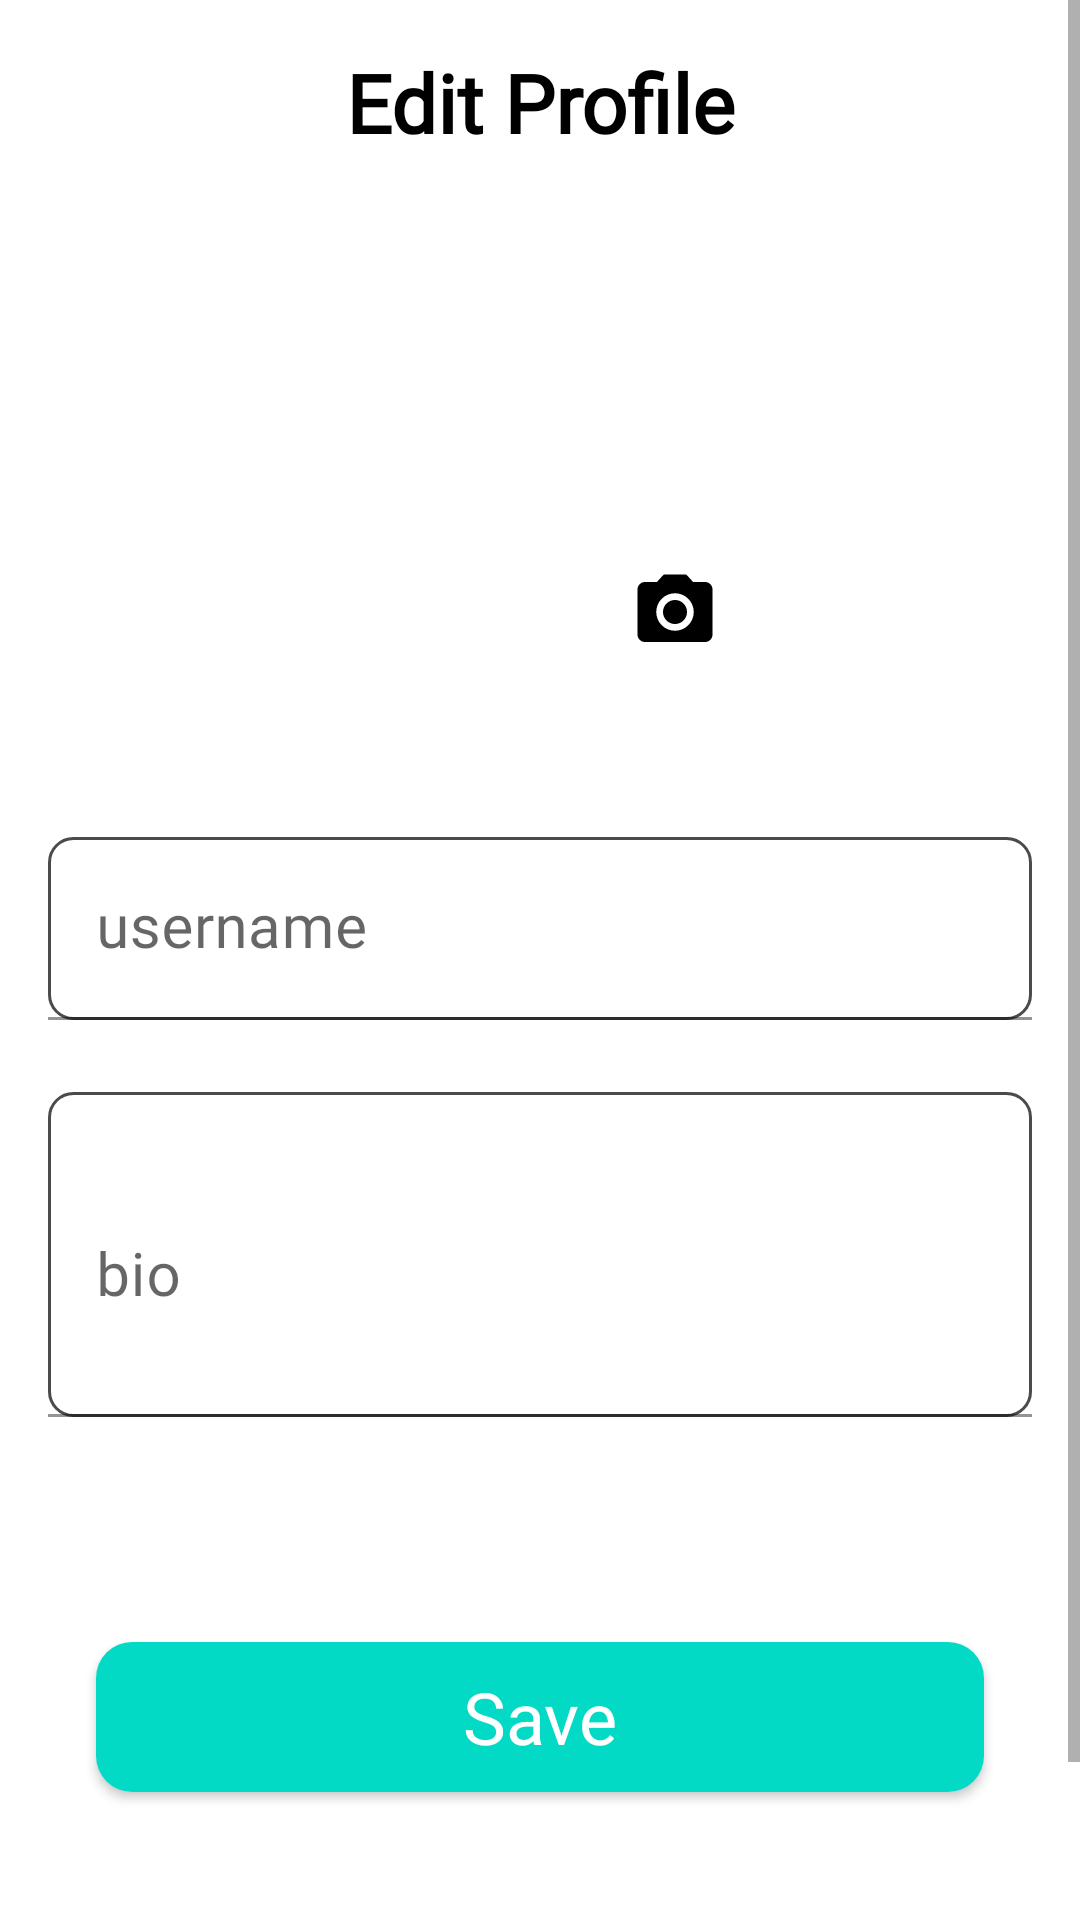

Named icons in this screenshot (1080 × 1920) and their bounding boxes, (x1, y1, x2, y2):
camerablack: (637, 574, 713, 642)
